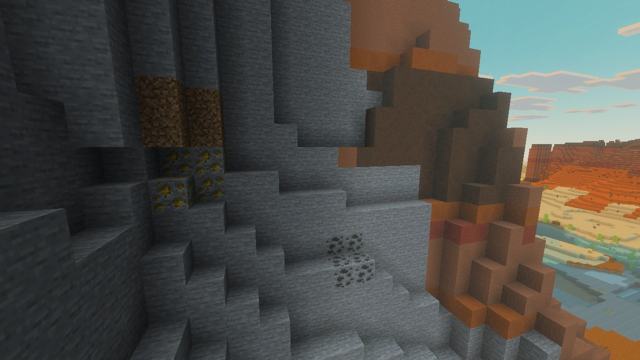coal: (324, 232, 376, 290)
gold: (144, 146, 228, 218)
